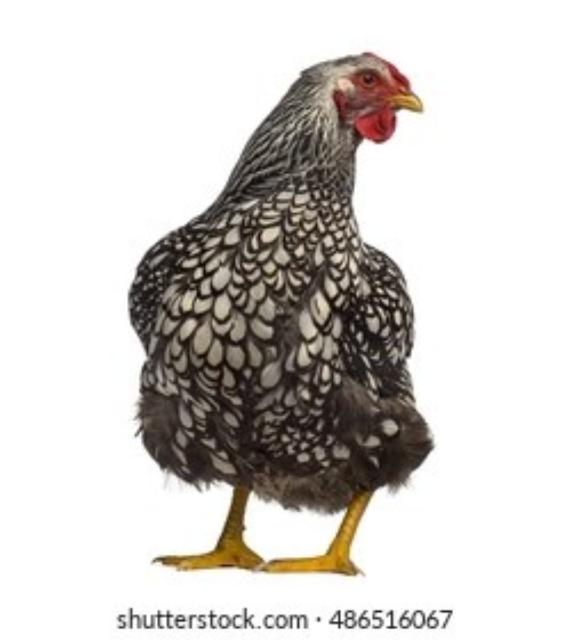Chicken: (124, 51, 436, 577)
